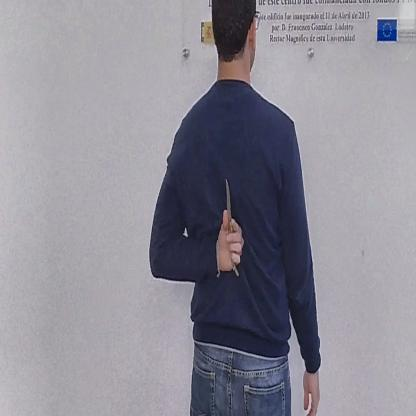knife: (221, 169, 246, 281)
